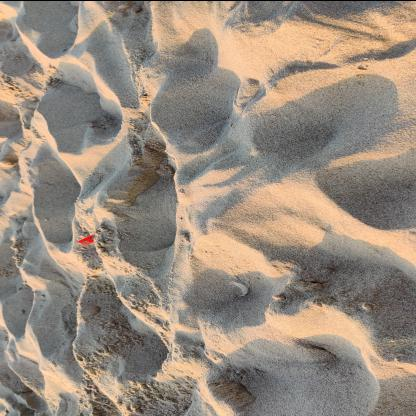diger: (78, 233, 95, 245)
